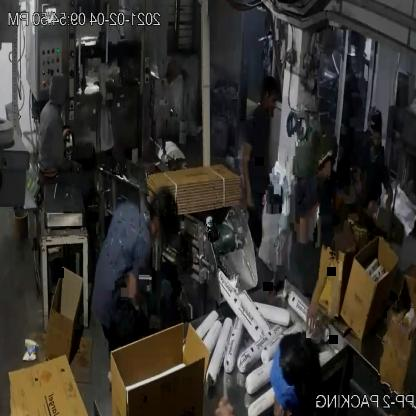no_glove: (300, 240, 337, 338), (118, 271, 157, 327), (371, 175, 401, 242), (237, 140, 256, 217)
